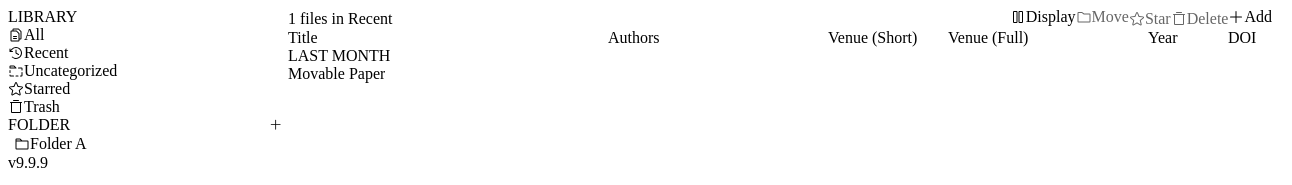
Test: Folder filter + move (Story 7.2) › Ctrl+click-checking a paper then using the toolbar Move button updates membership and it leaves the current (Uncategorized) view
Expected: the text "Movable Paper" is shown, left=288, top=65, right=385, bottom=83
Step 1. Click the button "Uncategorized" → {"x": 71, "y": 70}, box left=8, top=62, right=288, bottom=80
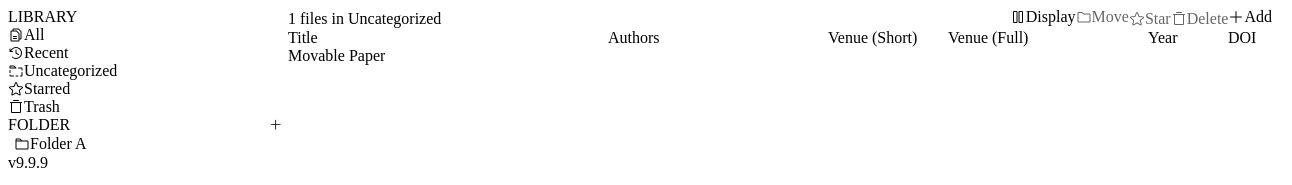
Expected: the text "Movable Paper" is shown, left=288, top=47, right=385, bottom=65
Step 2. Click the text "Movable Paper" → {"x": 337, "y": 56}, box left=288, top=47, right=1280, bottom=65
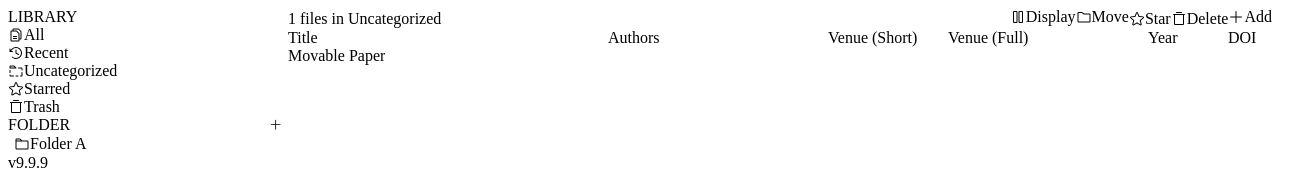
Step 3. Click the button "Move" → {"x": 1102, "y": 17}, box left=1076, top=8, right=1129, bottom=26
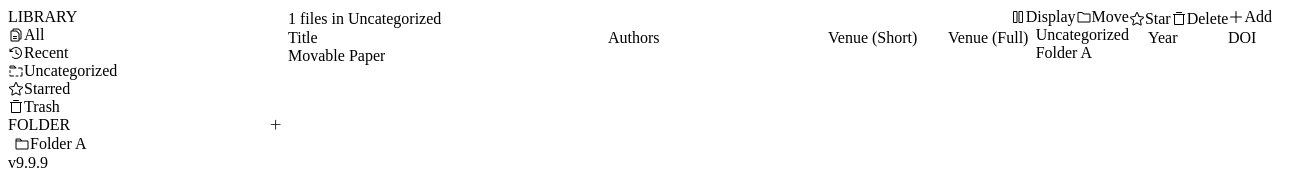
Step 4. Click the menu item "Folder A" → {"x": 1082, "y": 53}, box left=1036, top=44, right=1129, bottom=62
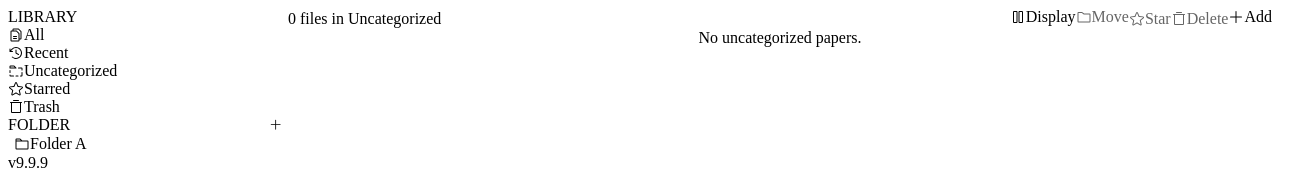
Result: the text "Movable Paper" is gone
